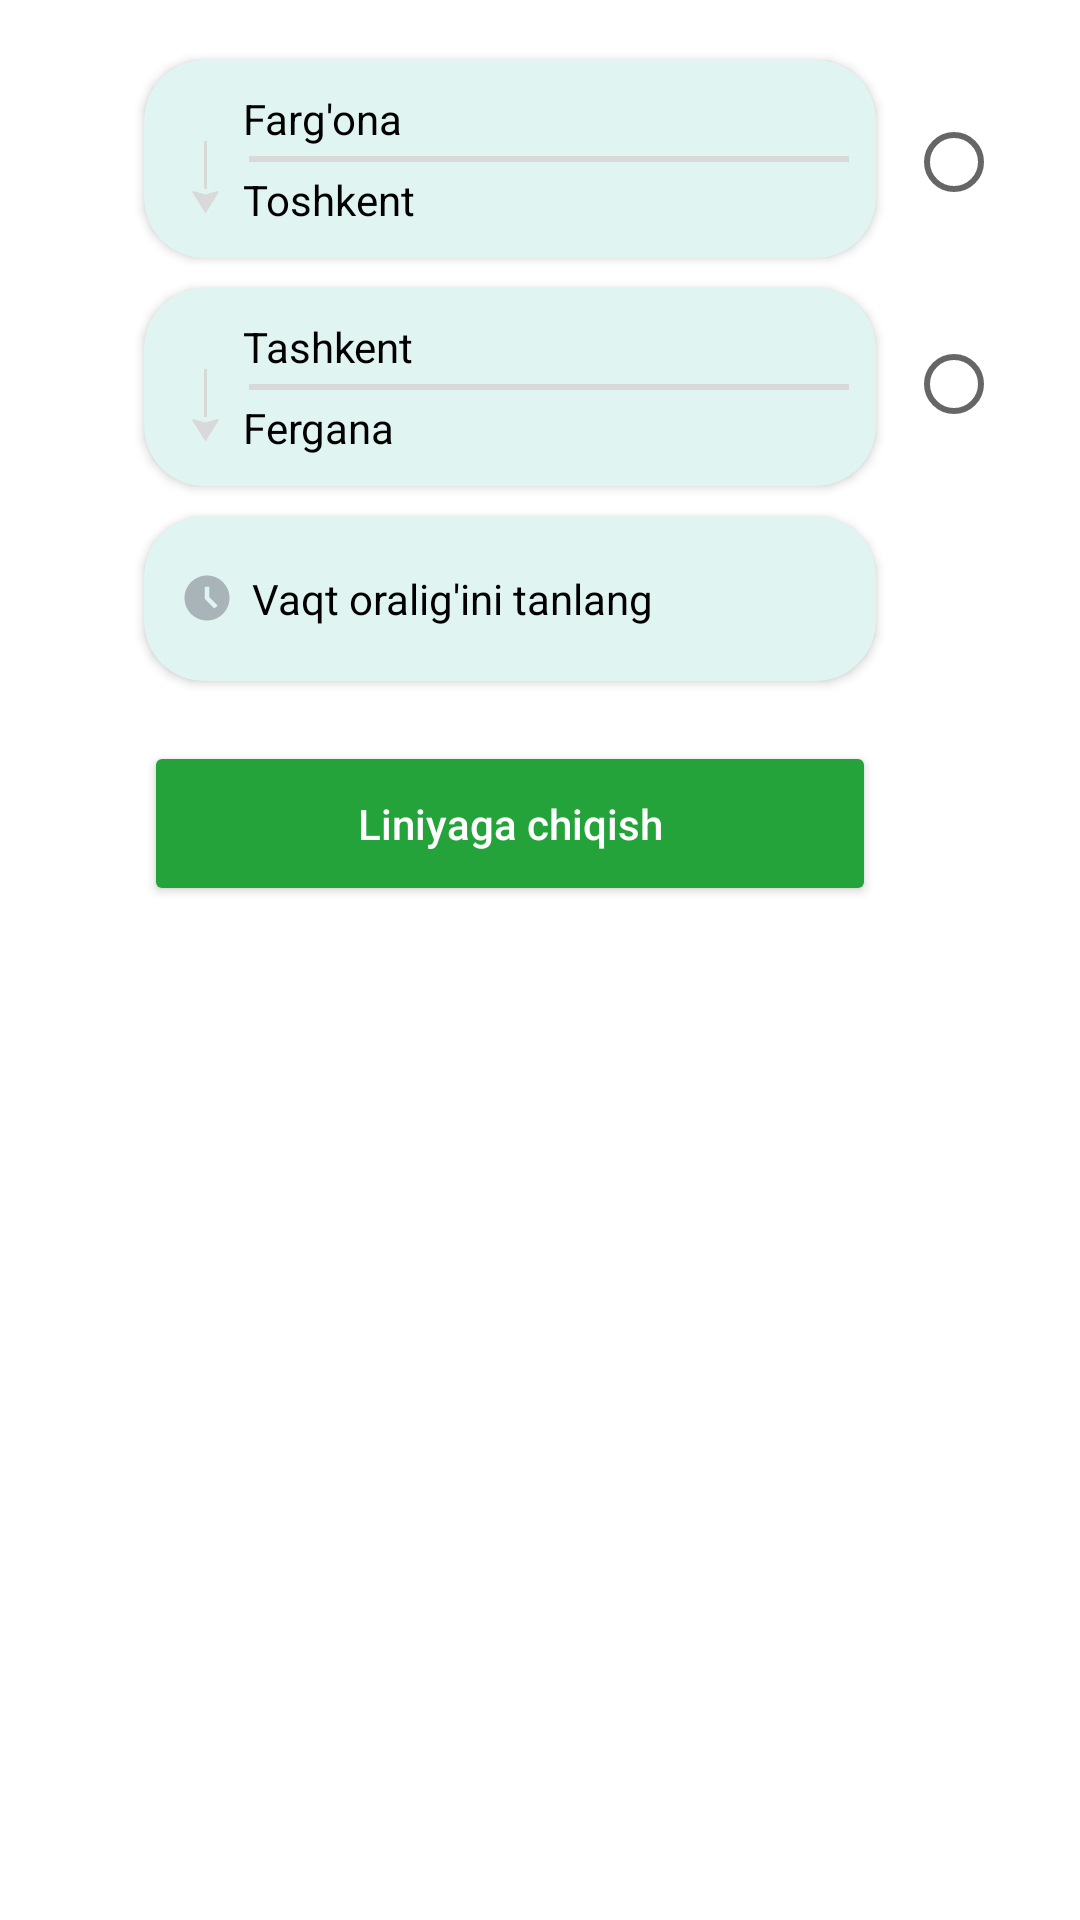

Icon bounding boxes for this 1080px×1920px phone screenshot, format detection(x1, y1, x2, y2):
time: detection(184, 575, 230, 621)
